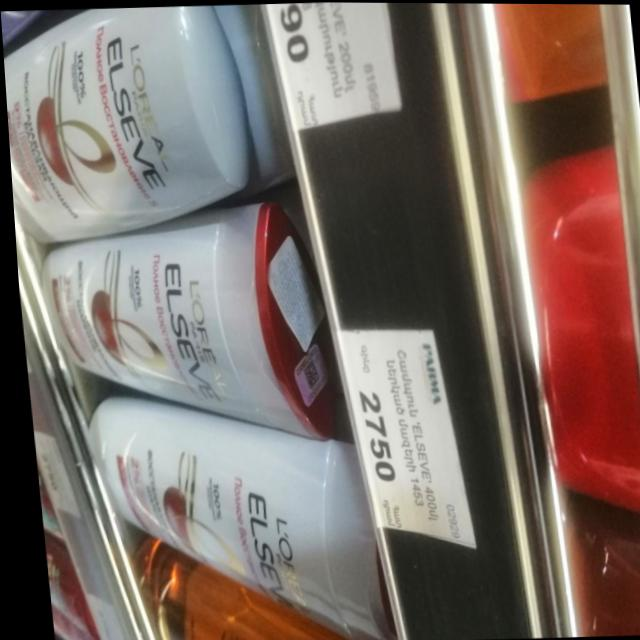datamatrix: (297, 358, 315, 391)
